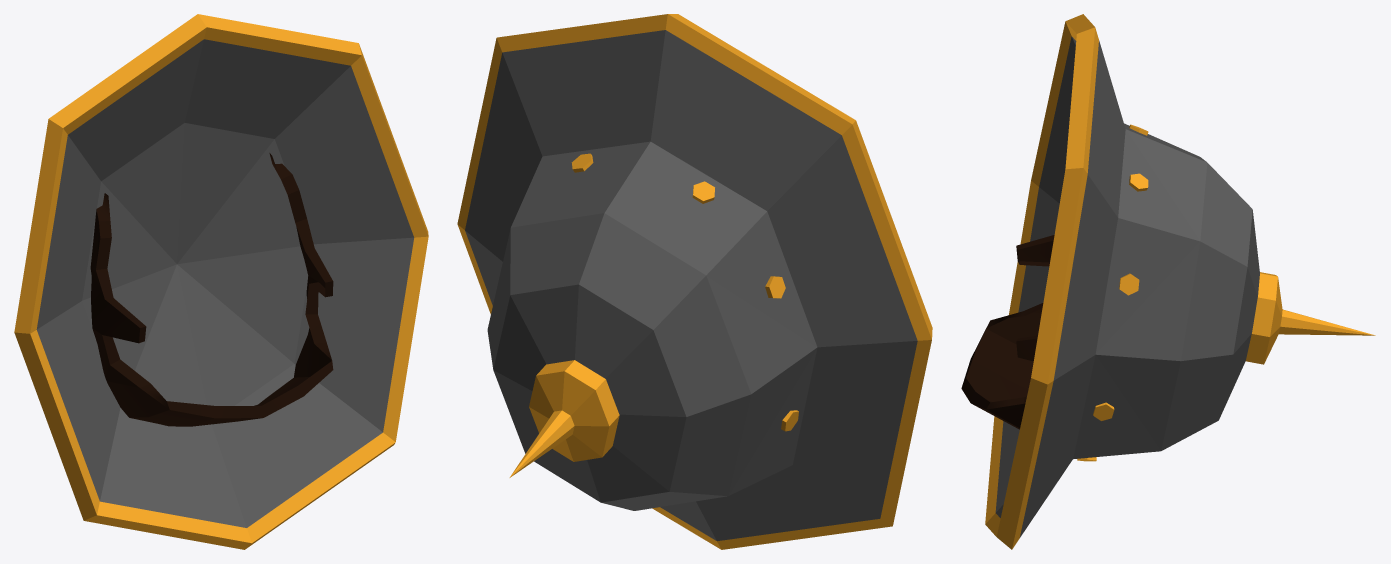
File: Helmet 09.FBX
The picture shows the model from 3 angles, left to right: view 1: azimuth 30°, elevation 25°; view 2: azimuth 150°, elevation 25°; view 3: azimuth 270°, elevation 25°; orthographic projection. The views are drawn at different scales.
Visible parts, largest first — view 1: Helmet 09, Hair Headgear; view 2: Helmet 09; view 3: Helmet 09, Hair Headgear.
Part boxes in pixels (x1,y1,x2,y2): Helmet 09: (14,14,428,549); Hair Headgear: (90,153,333,426); Helmet 09: (457,14,932,549); Helmet 09: (985,14,1375,549); Hair Headgear: (961,235,1054,429).
Bounding box in the file's own units: 58.46 × 50 × 67.71.
2 materials, 1 textured.
